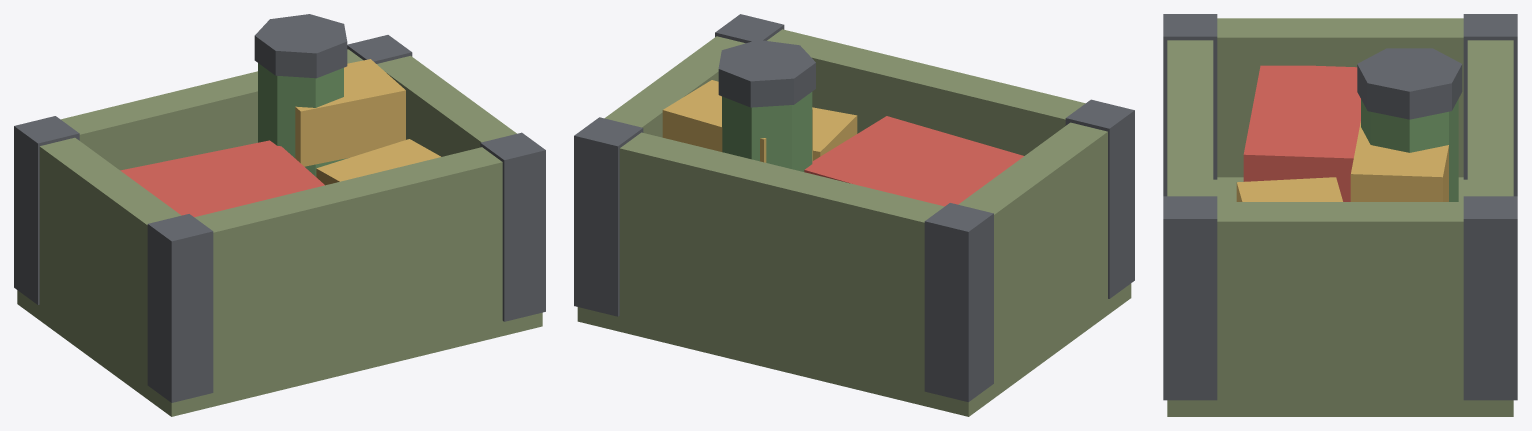
Rendered from supply_cache.gltf.
3 views of the same model, side by side, from view 1: azimuth 30°, elevation 25°; view 2: azimuth 150°, elevation 25°; view 3: azimuth 270°, elevation 25° (orthographic). The views are drawn at different scales.
Visible parts, largest first — view 1: Front, Base, Left, Corner-1_1, Back, Medkit, Corner1_1, SupplyB, Right, Corner-1_-1, Cap, Bottle (+2 smaller); view 2: Back, Base, Left, Front, Corner-1_-1, Medkit, Corner1_-1, Corner-1_1, Cap, Bottle, Right, SupplyB (+2 smaller); view 3: Right, Base, Left, Medkit, Corner1_-1, Corner1_1, Front, Back, Cap, SupplyB, Bottle, Corner-1_-1 (+2 smaller).
Part boxes in pixels (box(x1,y1,x2,y2)): Front: box(194, 147, 502, 380); Base: box(17, 271, 542, 416); Left: box(39, 137, 181, 373); Corner-1_1: box(147, 214, 213, 402); Back: box(61, 49, 363, 170); Medkit: box(120, 140, 324, 217); Corner1_1: box(480, 132, 545, 321); SupplyB: box(295, 59, 405, 166); Right: box(377, 55, 516, 156); Corner-1_-1: box(14, 116, 79, 304); Cap: box(254, 14, 347, 78); Bottle: box(258, 63, 343, 176); Back: box(619, 132, 944, 376); Base: box(577, 263, 1131, 416); Left: box(958, 122, 1107, 371); Front: box(767, 29, 1085, 155); Corner-1_-1: box(924, 203, 993, 402); Medkit: box(804, 116, 1023, 206); Corner1_-1: box(574, 117, 643, 316); Corner-1_1: box(1065, 99, 1134, 298); Cap: box(718, 40, 815, 107); Bottle: box(722, 92, 812, 171); Right: box(604, 36, 745, 137); SupplyB: box(662, 80, 812, 162); Right: box(1217, 202, 1463, 388); Base: box(1167, 177, 1513, 416); Left: box(1217, 18, 1463, 177); Medkit: box(1243, 65, 1360, 201); Corner1_-1: box(1463, 196, 1517, 400); Corner1_1: box(1163, 196, 1217, 400); Front: box(1167, 40, 1213, 196); Back: box(1467, 40, 1513, 196); Cap: box(1357, 48, 1462, 119); SupplyB: box(1350, 121, 1448, 201); Bottle: box(1361, 99, 1458, 201); Corner-1_-1: box(1463, 14, 1517, 196).
Bounding box in the file's own units: 1.26 × 0.79 × 0.92.
